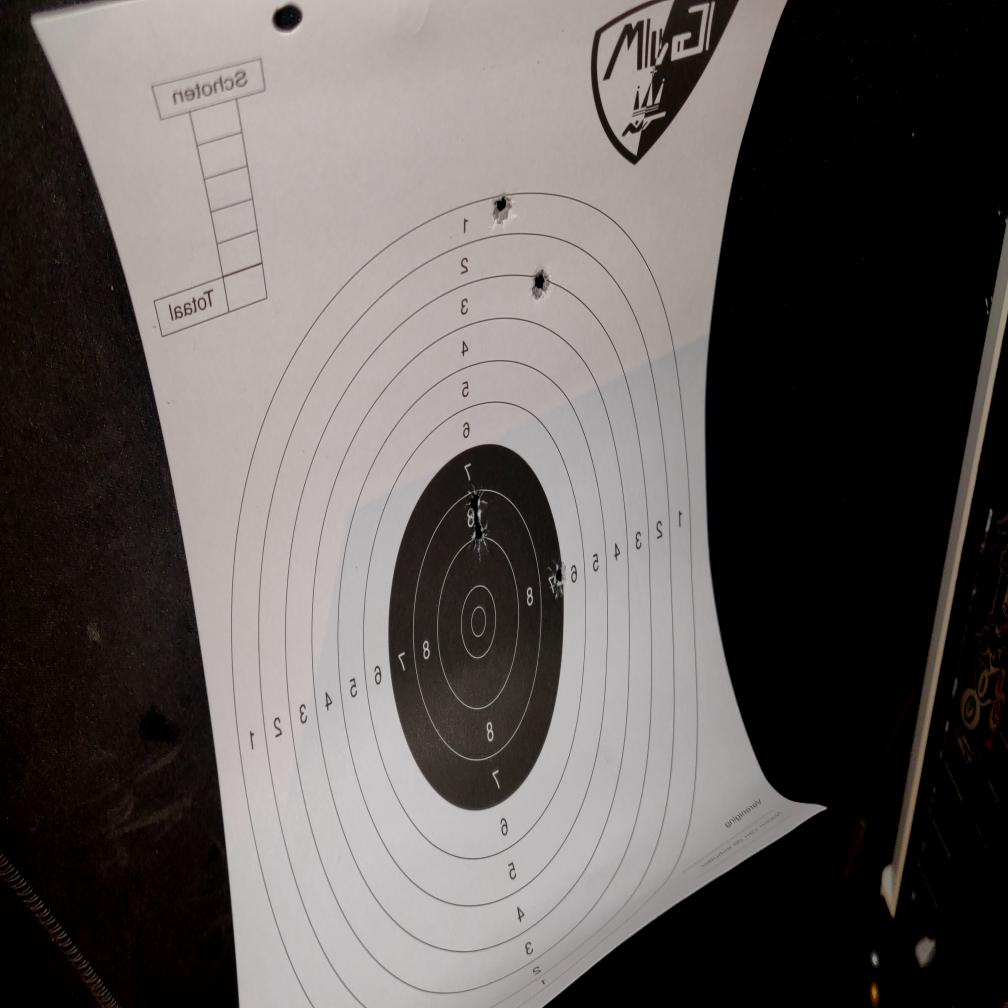1: (490, 188, 515, 231)
3: (530, 269, 551, 301)
7: (548, 547, 572, 601)
8: (465, 488, 488, 516)
9: (470, 519, 489, 555)
Target: (232, 185, 698, 1007)
black_contour: (387, 443, 564, 813)
